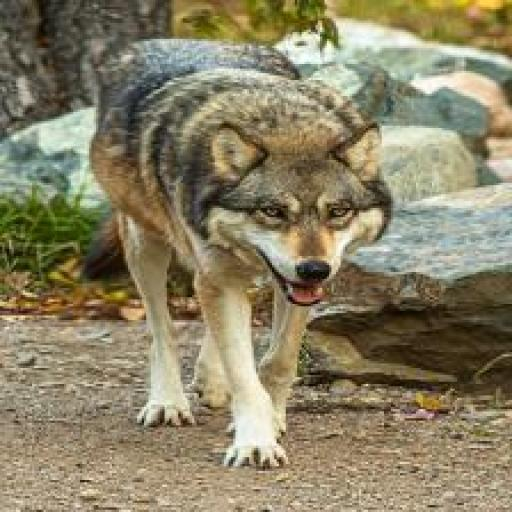wolf: (85, 11, 394, 488)
